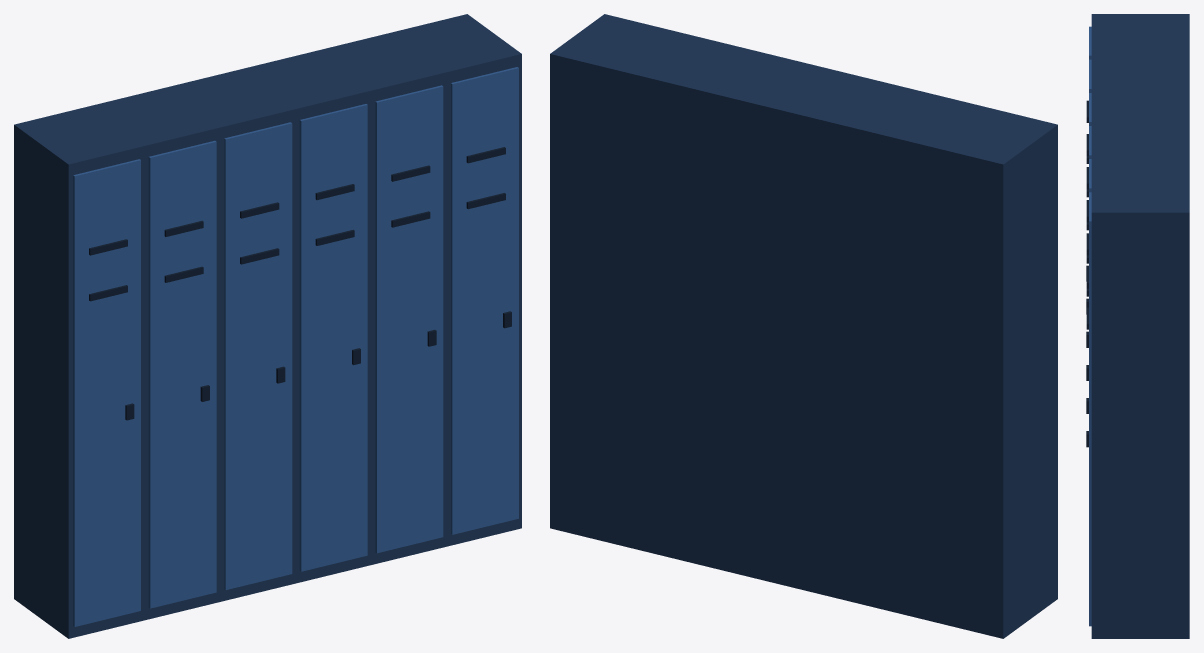
The model's file is locker.glb.
3 views of the same model, side by side, from view 1: azimuth 30°, elevation 25°; view 2: azimuth 150°, elevation 25°; view 3: azimuth 270°, elevation 25° (orthographic). The views are drawn at different scales.
Parts seen in each view (by area): view 1: locker; view 2: locker; view 3: locker.
Part boxes in pixels (left/top/right/bottom): locker: left=14, top=14, right=521, bottom=638; locker: left=550, top=14, right=1057, bottom=638; locker: left=1086, top=14, right=1189, bottom=638.
Bounding box in the file's own units: 1.83 × 1.83 × 0.4023.
